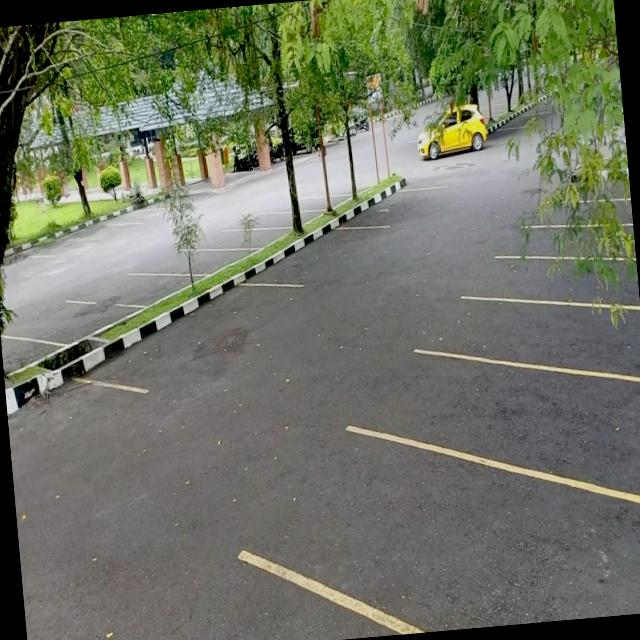empty: (327, 452, 640, 639), (473, 360, 640, 498), (133, 280, 294, 392), (497, 292, 640, 382), (280, 225, 383, 288), (17, 298, 120, 346), (107, 270, 185, 310), (166, 243, 245, 279), (203, 225, 291, 252), (372, 188, 424, 228)
